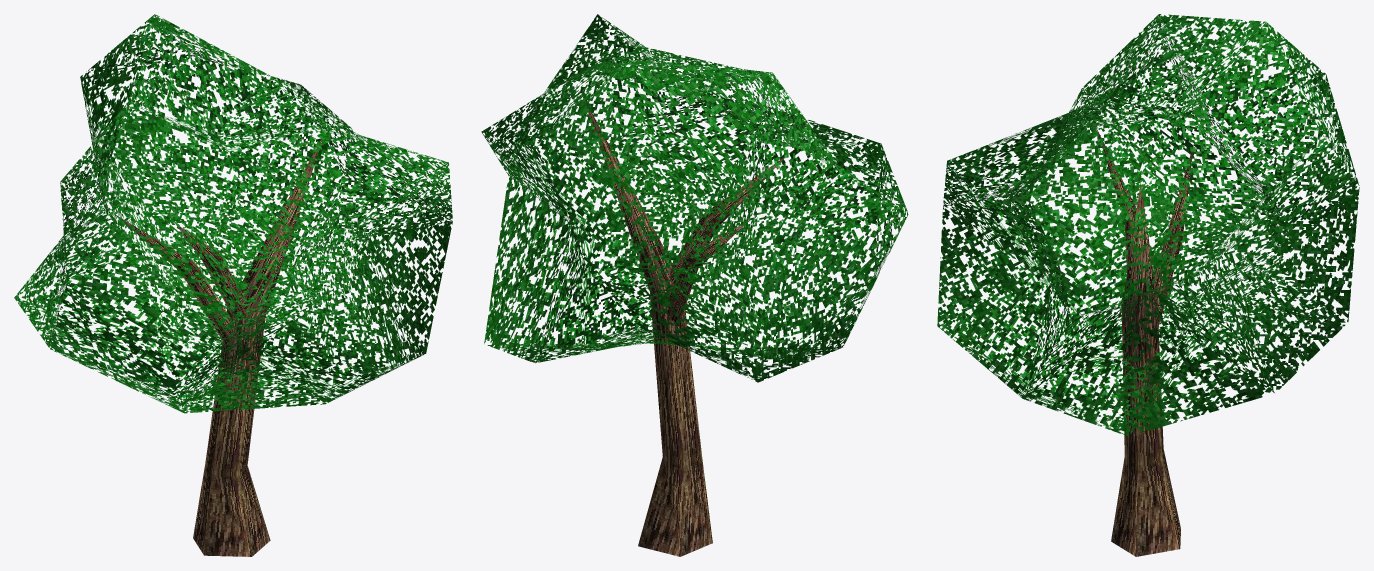
Rendered from ps1_tree_bulbus.glb.
The picture shows the model from 3 angles, left to right: view 1: azimuth 30°, elevation 25°; view 2: azimuth 150°, elevation 25°; view 3: azimuth 270°, elevation 25°; orthographic projection. The views are drawn at different scales.
Visible parts, largest first — view 1: Icosphere; view 2: Icosphere; view 3: Icosphere.
Part boxes in pixels (<box>): Icosphere: <box>14,14,452,556</box>; Icosphere: <box>481,14,908,556</box>; Icosphere: <box>937,14,1359,556</box>.
Size of the model in its own units: 3.89 by 4.88 by 3.67.
1 material, 1 textured.
